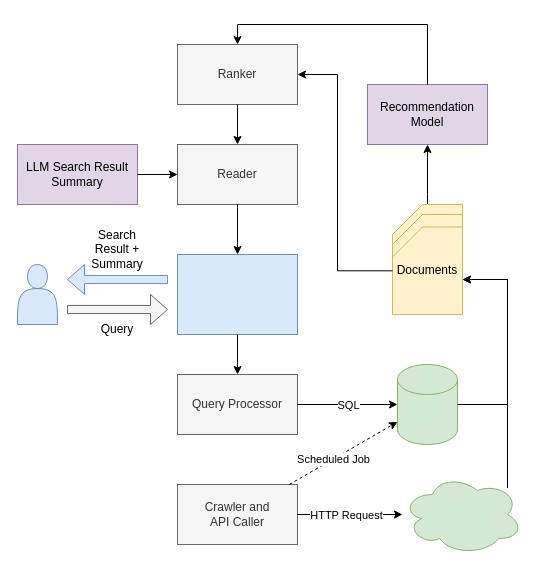
This 540x572 diagram has some shape labels left out. Here are the shapes that lost their labels. From the top down, the centre of each, then its label:
(x=237, y=294): User Interface
(x=427, y=404): Database
(x=462, y=514): Web Data
